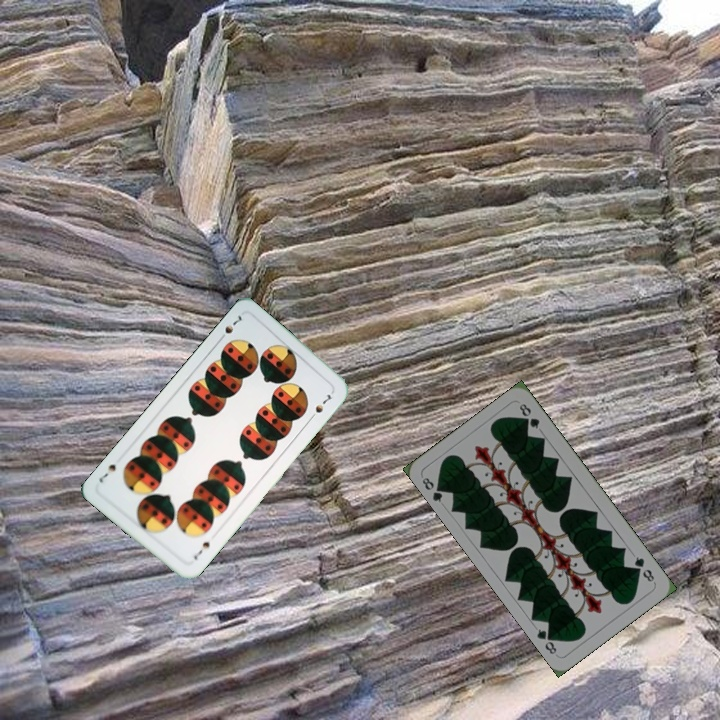G8: (418, 473, 448, 505), (630, 552, 657, 585)
S7: (214, 311, 244, 344), (190, 537, 212, 563)
